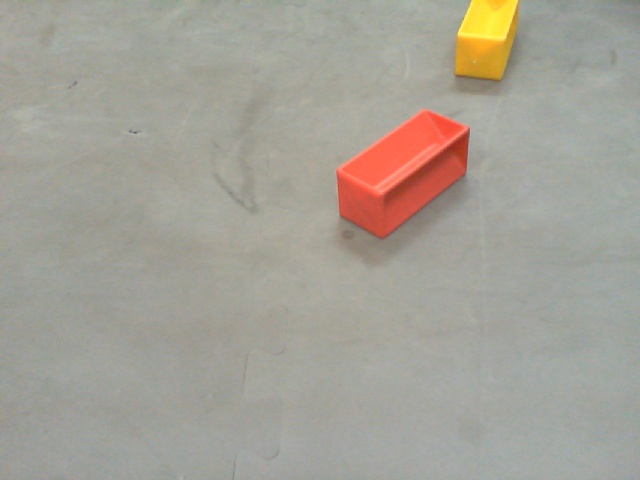RedSample: (335, 108, 471, 243)
YellowSample: (452, 1, 519, 85)
